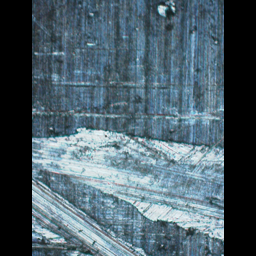d: (32, 121, 223, 255), (153, 0, 180, 30)
